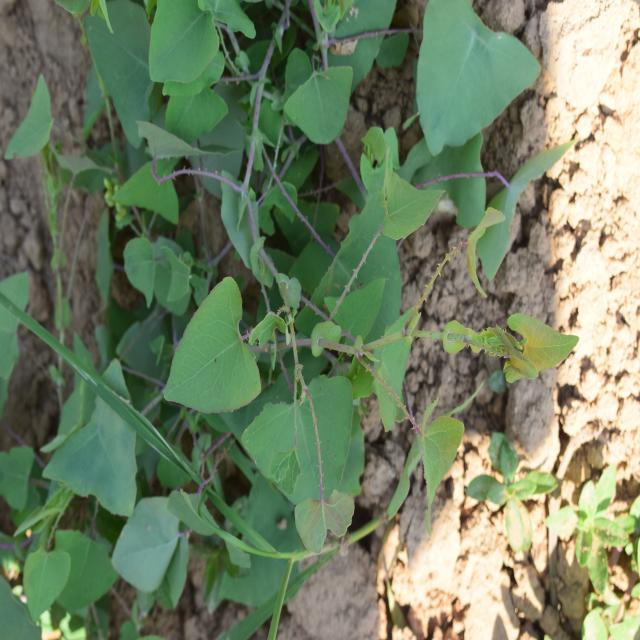Asiatic_Smartweed: (172, 278, 458, 526), (130, 0, 339, 183), (391, 6, 543, 246)
